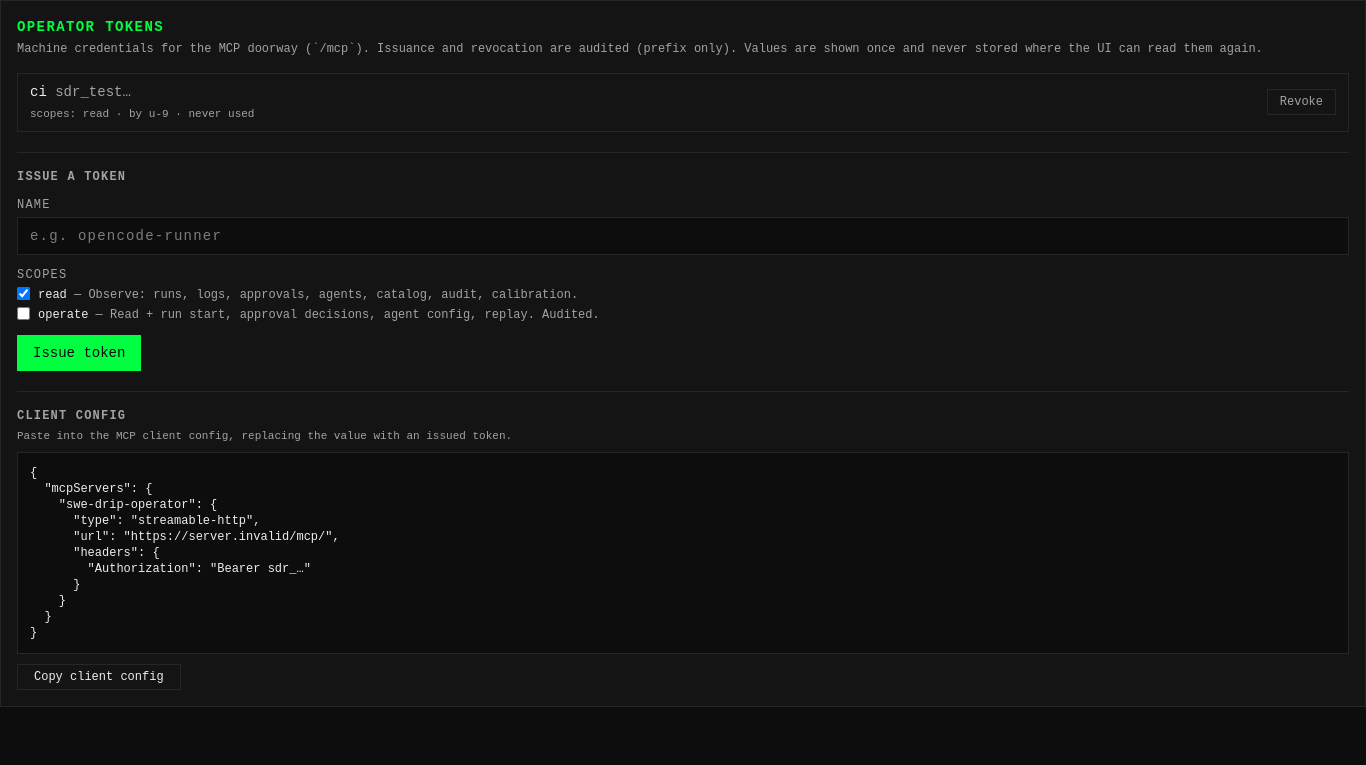
Test: OperatorTokens section › issue shows the value once, dismiss clears it for good
This screenshot has width=1366, height=765.
Check: the text "ci" is shown, box [30,84,47,100]
Type "ci-2" into the field with placeholder "e.g. opencode-runner" at coordinates (683, 236), box [17,216,1349,254]
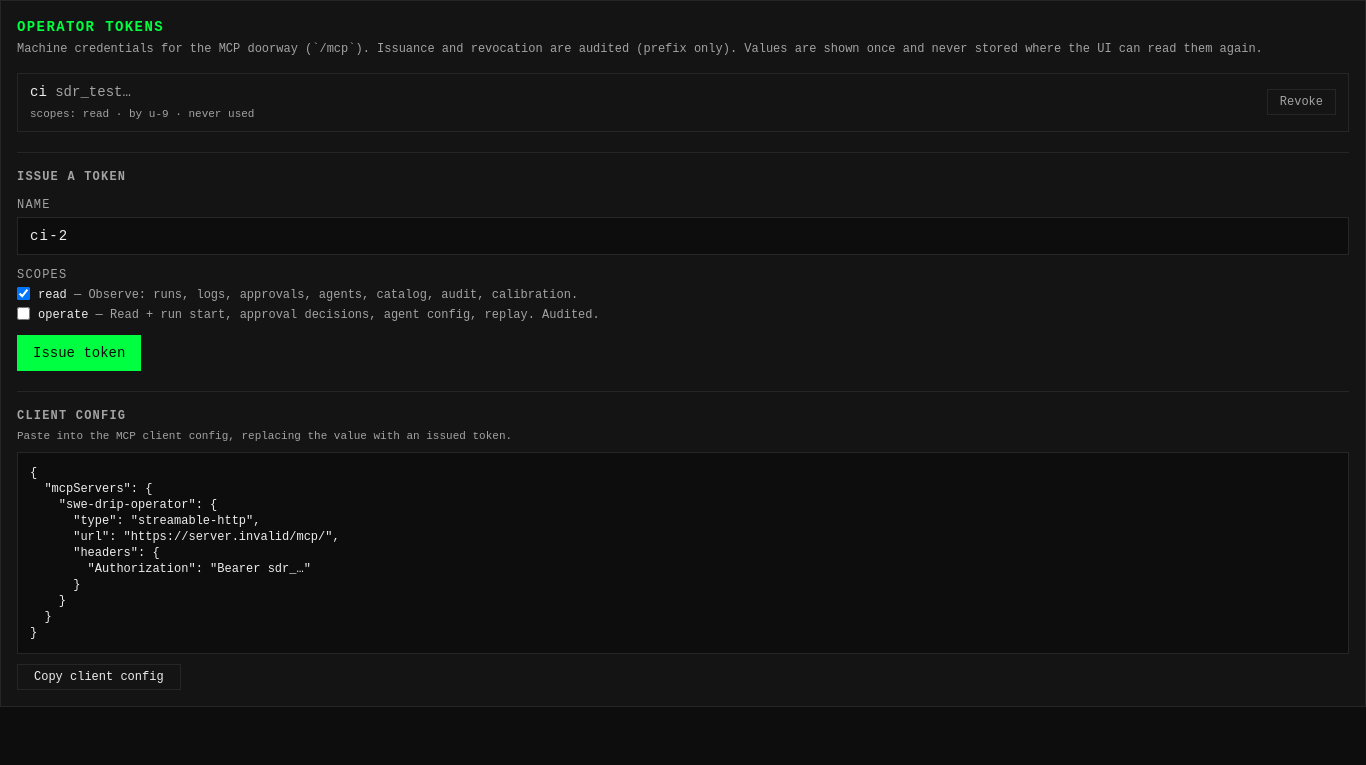
Click the button "Issue token" at coordinates (79, 352), box [17,334,141,370]
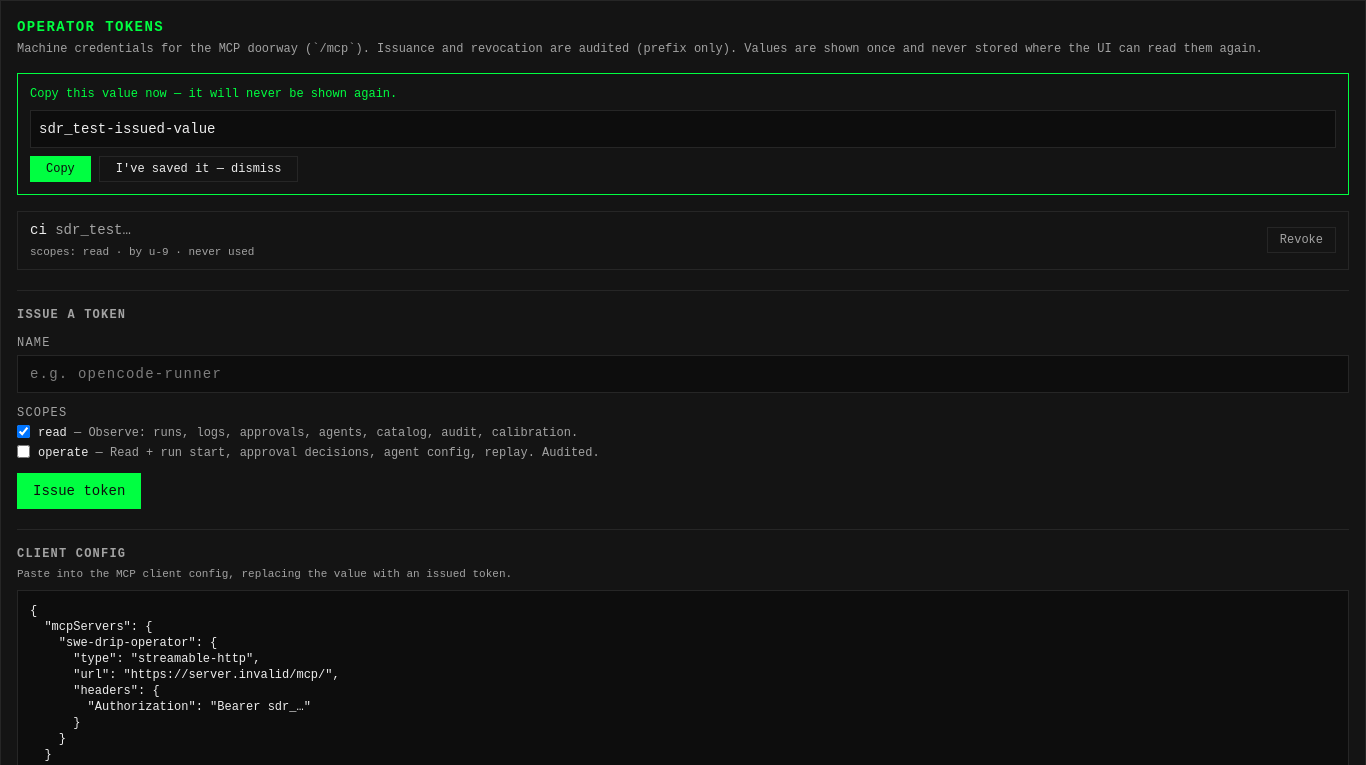
Check: the element with test id "issued-token" is shown, box [17,73,1349,195]
Check: the text "sdr_test-issued-value" is shown, box [30,110,1336,148]
Click the button "I've saved it — dismiss" at coordinates (199, 169), box [99,156,298,182]
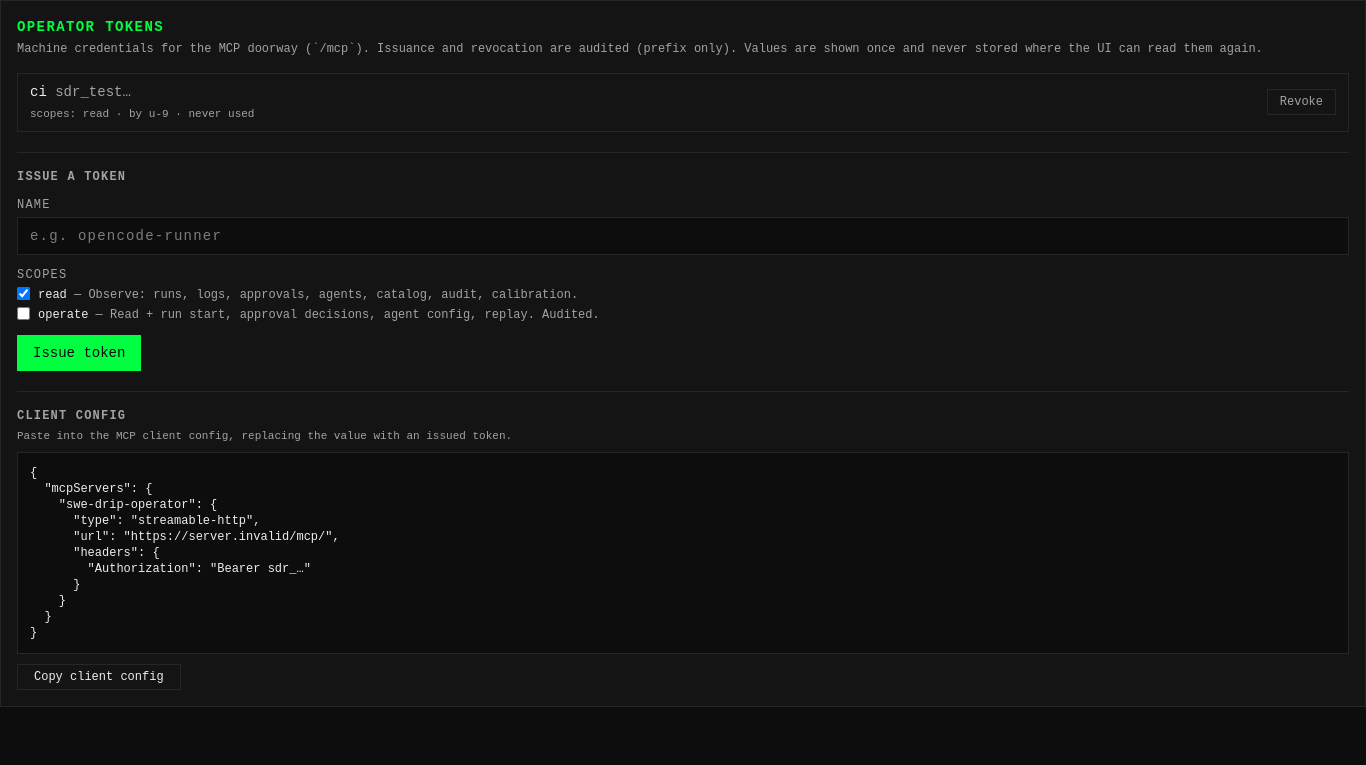
Check: the element with test id "issued-token" is gone
Check: the text "sdr_test-issued-value" is gone
